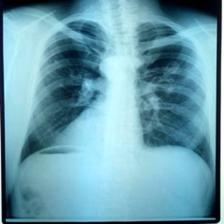tuberculosis: (10, 10, 216, 180)
